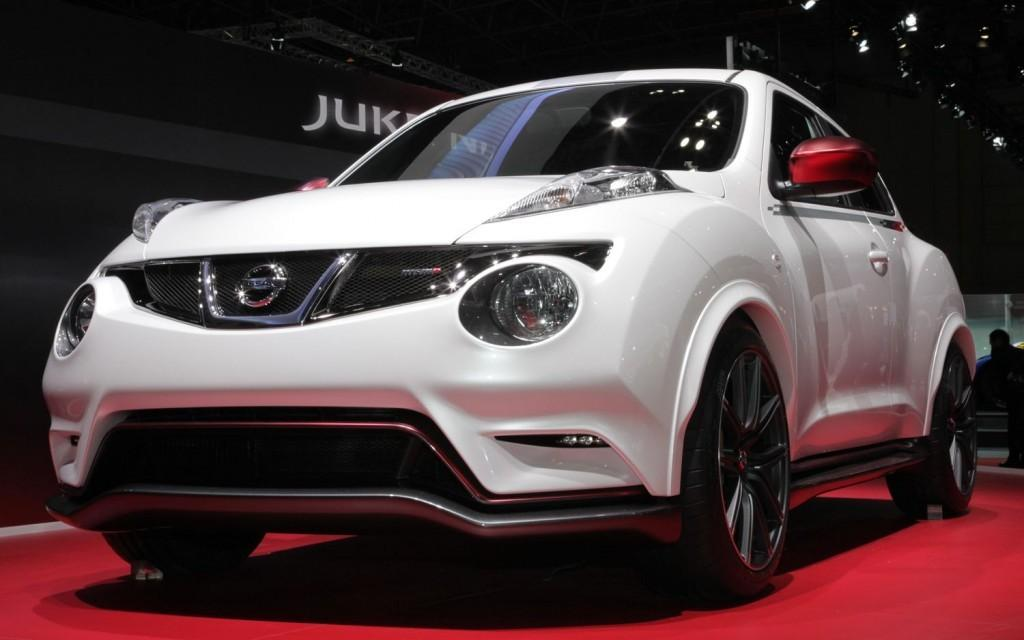Hatchback: (41, 64, 979, 602)
